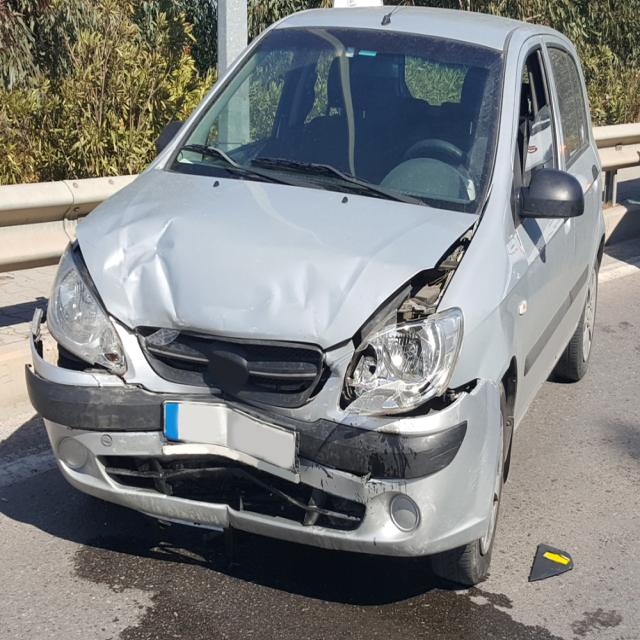dent: (104, 215, 349, 341)
lamp broken: (344, 309, 464, 413), (45, 242, 126, 376)
